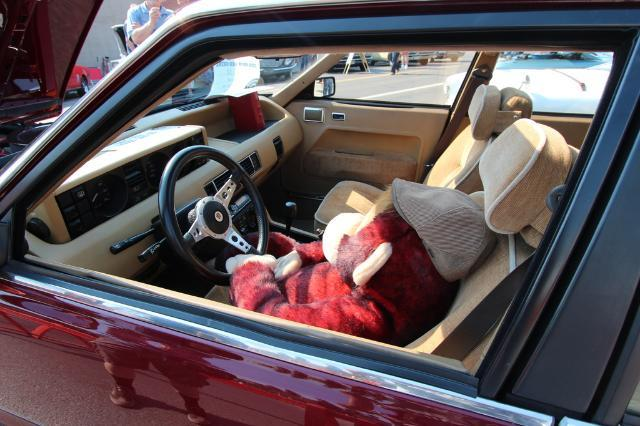Seatbelt: (429, 246, 537, 360), (422, 63, 492, 183)
